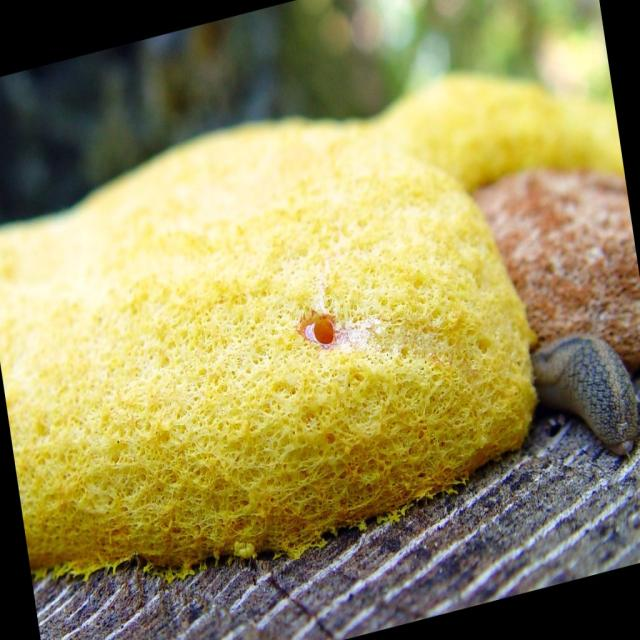Dog_vomit_slime_mold: (9, 96, 630, 566)
